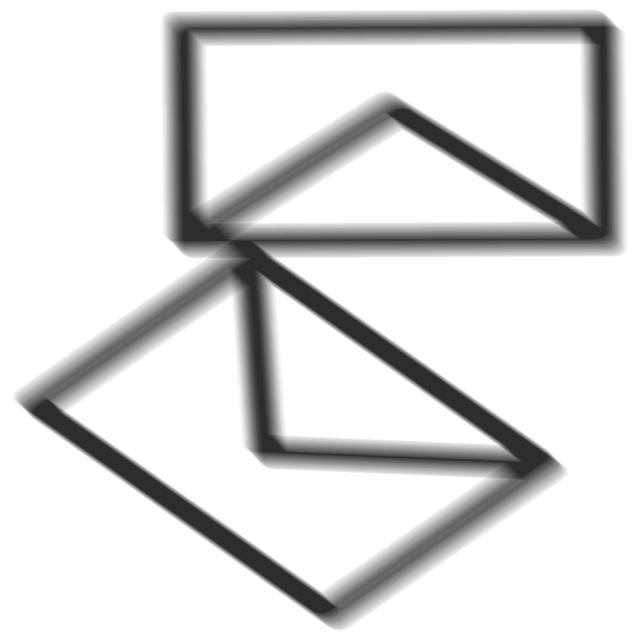letter: (9, 236, 575, 635), (157, 6, 623, 268)
